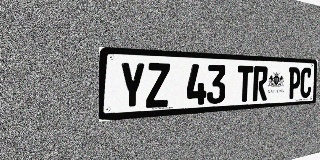3: (207, 65, 226, 104)
4: (186, 64, 207, 106)
C: (300, 67, 312, 98)
P: (288, 67, 301, 99)
R: (252, 66, 268, 101)
T: (237, 65, 253, 102)
Y: (119, 62, 145, 110)
Z: (146, 63, 170, 108)
